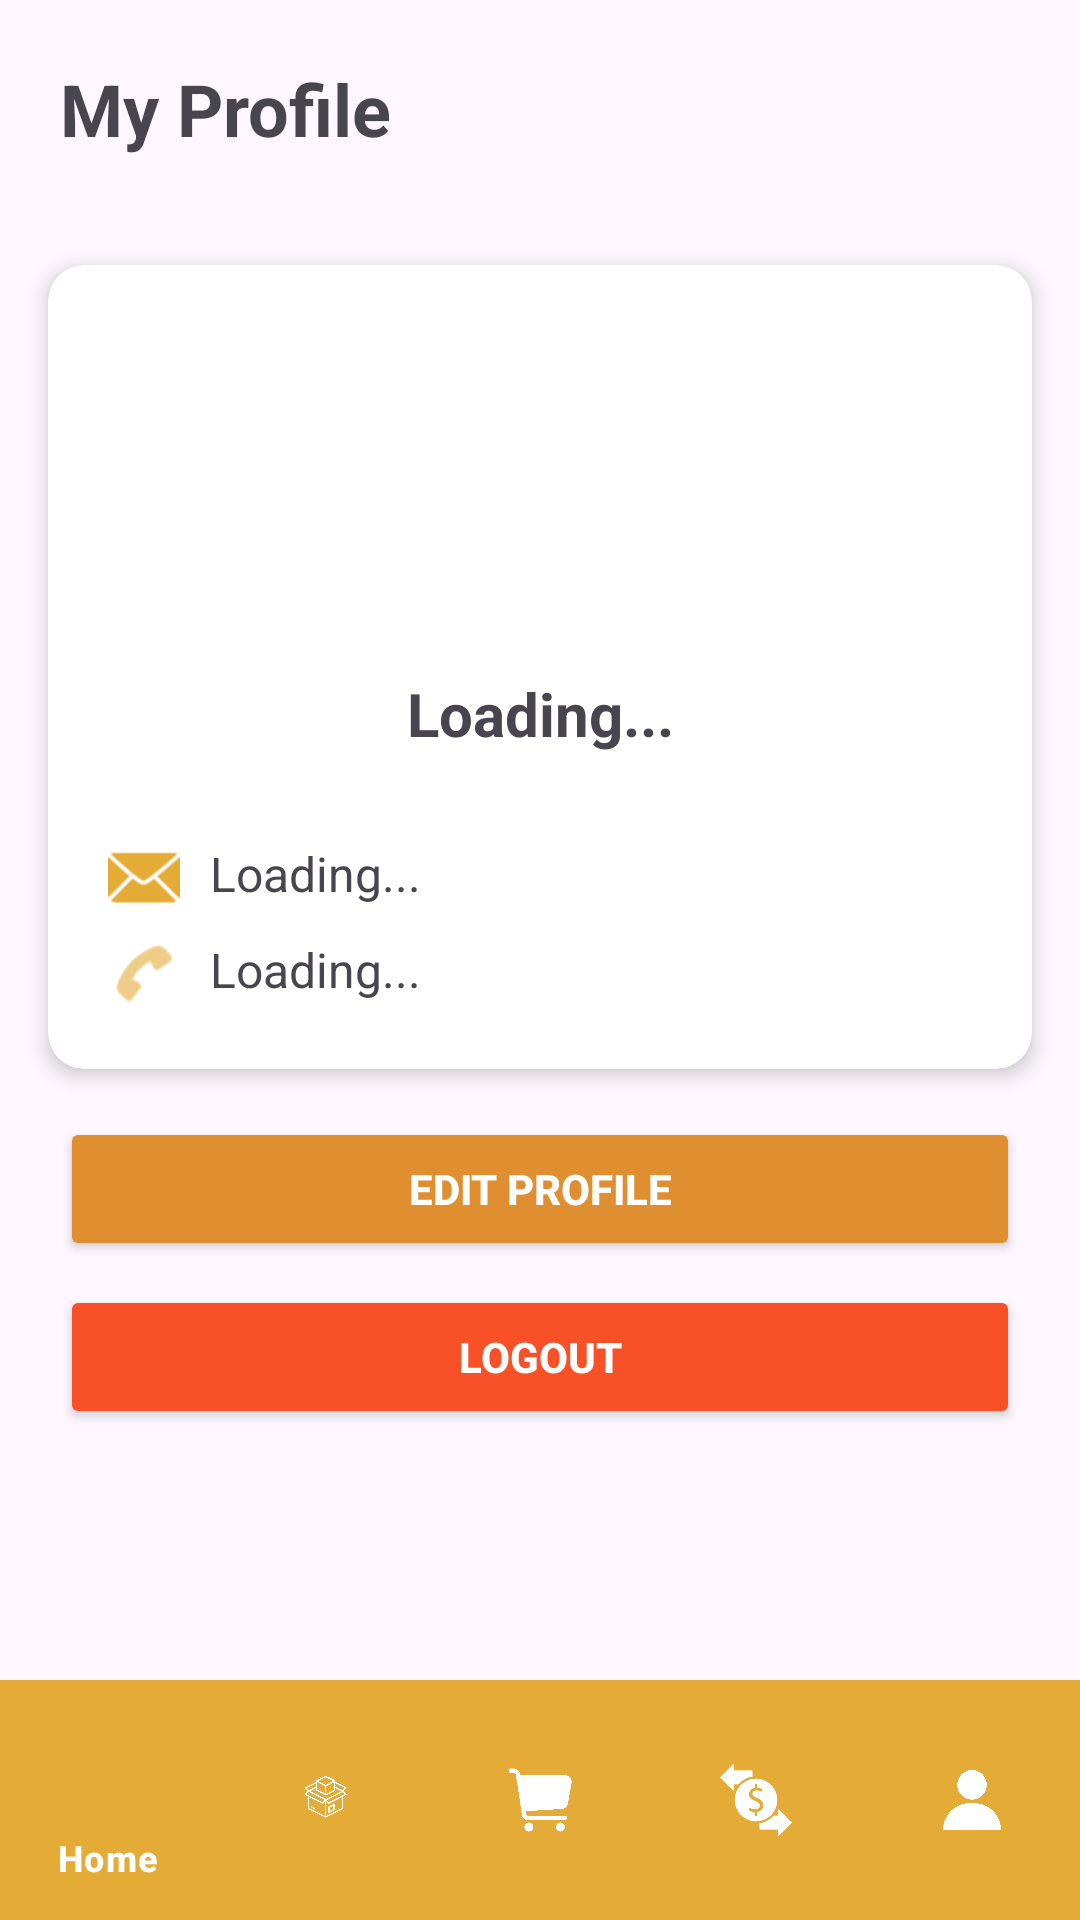

Screen size 1080*1920. Icon name, then its box in pixels as bbox=(x1, y1, x2, y2):
call: bbox=(116, 945, 173, 1002)
email: bbox=(108, 852, 180, 903)
